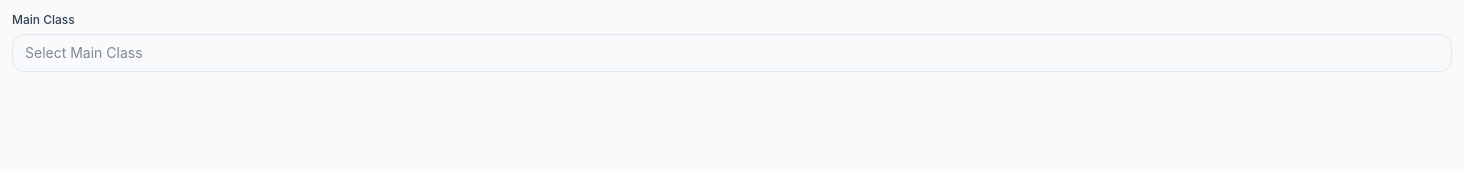
Scenario: MainClassSelect › handles invalid input and search filtering
Later steps or results of the test are not shown.
Type "RES" into the field with test id "main-class-input" at (732, 53), box [12,34,1452,72]
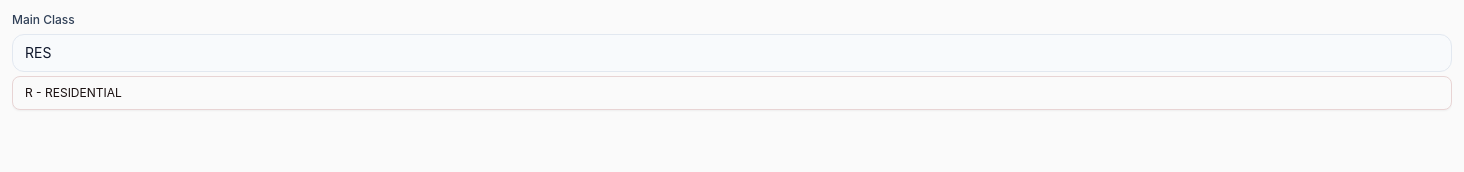
Expected: the option with test id "main-class-option-R" is shown, [13,77,1451,109]
Expected: the option with test id "main-class-option-C" is gone
